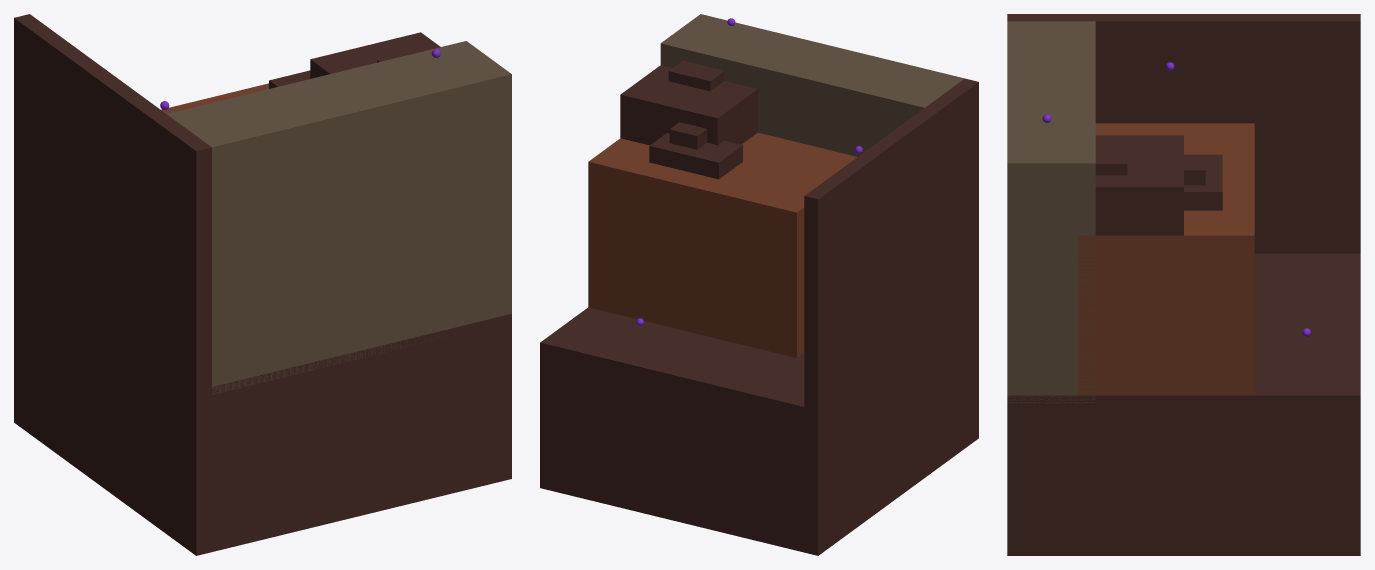
File: Section_1A_5.fbx
The picture shows the model from 3 angles, left to right: view 1: azimuth 30°, elevation 25°; view 2: azimuth 150°, elevation 25°; view 3: azimuth 270°, elevation 25°; orthographic projection. The views are drawn at different scales.
Parts seen in each view (by area): view 1: Cube__79_, Cube__70_, Cube__77_, Cube__80_, Cube__78_; view 2: Cube__70_, Cube__78_, Cube__77_, Cube__79_, Cube__80_, Cube__81_, Cube__83_, Cube__82_; view 3: Cube__70_, Cube__77_, Cube__78_, Cube__79_, Cube__80_, Cube__81_, Cube__83_, Cube__82_.
Boxes of the visible parts, x1,y1,x2,y2 form: Cube__79_: [167, 41, 511, 394]; Cube__70_: [14, 264, 511, 555]; Cube__77_: [14, 14, 211, 398]; Cube__80_: [310, 32, 440, 78]; Cube__78_: [161, 83, 268, 113]; Cube__70_: [540, 293, 978, 555]; Cube__78_: [588, 132, 856, 357]; Cube__77_: [804, 78, 978, 417]; Cube__79_: [660, 14, 964, 156]; Cube__80_: [620, 65, 757, 145]; Cube__81_: [649, 133, 742, 179]; Cube__83_: [668, 60, 724, 91]; Cube__82_: [669, 122, 707, 149]; Cube__70_: [1007, 253, 1360, 555]; Cube__77_: [1007, 14, 1360, 253]; Cube__78_: [1078, 123, 1254, 395]; Cube__79_: [1007, 21, 1095, 403]; Cube__80_: [1095, 135, 1183, 235]; Cube__81_: [1184, 154, 1222, 210]; Cube__83_: [1095, 141, 1127, 175]; Cube__82_: [1184, 155, 1205, 185].
Size of the model in its own units: 2000 by 2591 by 2000.
